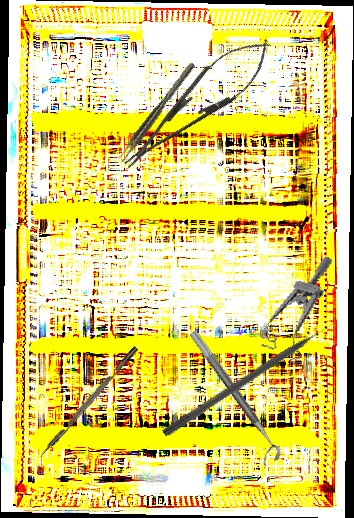Chopper: (33, 346, 144, 467)
Fixation Ring: (178, 329, 285, 468)
Needle Holder: (111, 24, 283, 183)
Pusher: (161, 318, 340, 439)
Speculum: (258, 246, 333, 369)
Tissue Forceps: (115, 61, 199, 165)
